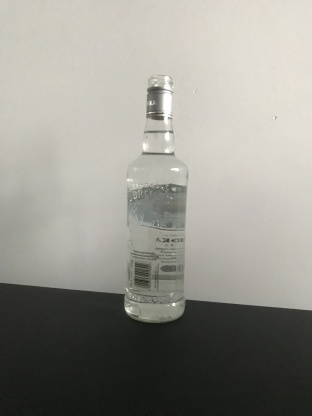nakretka: (144, 73, 174, 121)
